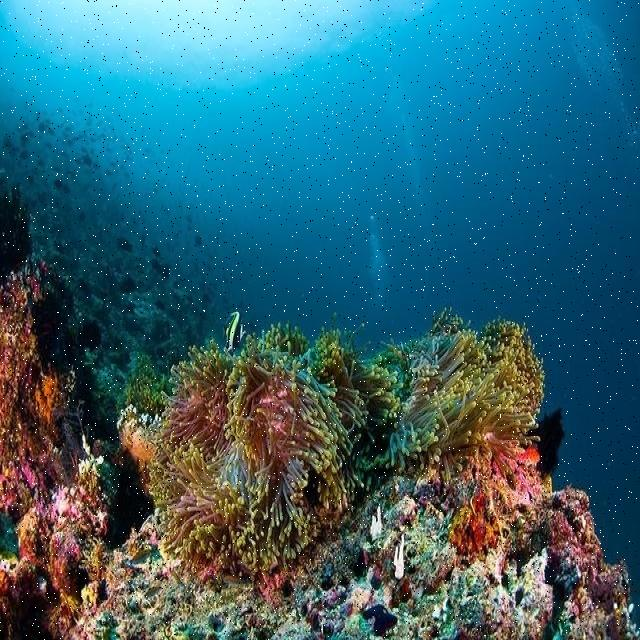fish: (225, 313, 248, 357)
reefs: (0, 168, 639, 639)
